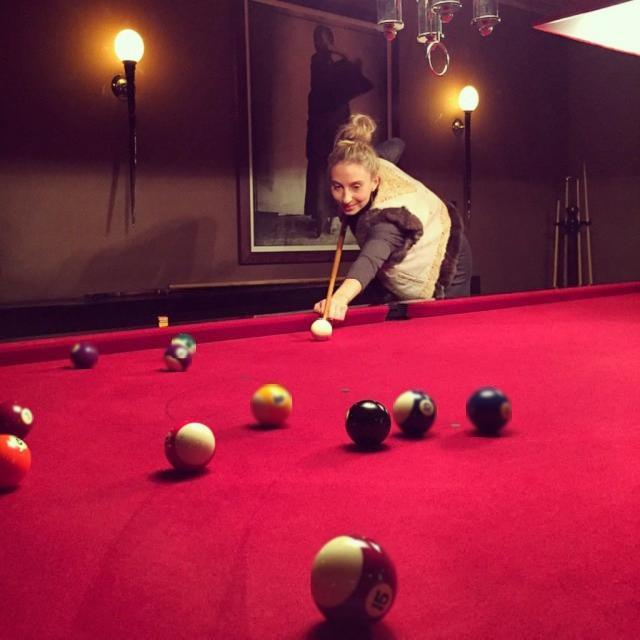Ball: (312, 532, 399, 631), (163, 419, 217, 473), (346, 398, 392, 452), (466, 386, 512, 437), (393, 389, 437, 437), (250, 384, 292, 429), (1, 432, 30, 494), (0, 396, 34, 438), (162, 343, 192, 372), (70, 341, 98, 369), (172, 335, 196, 358), (310, 319, 333, 343)
Billiard table: (0, 280, 640, 640)
